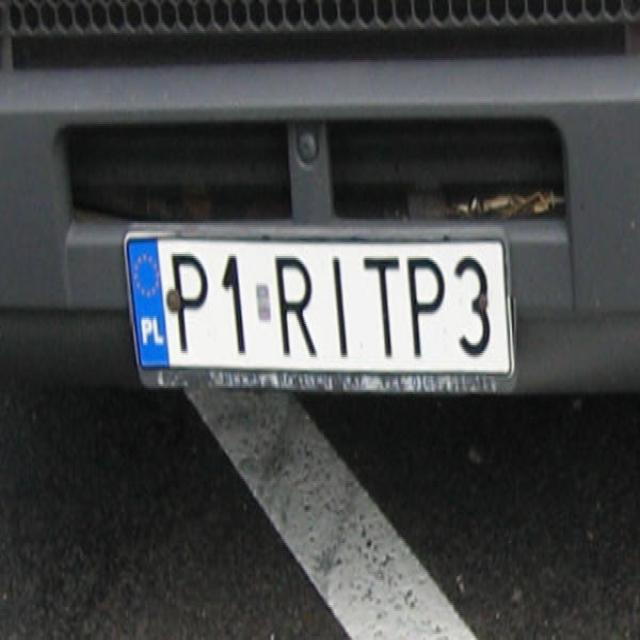pl_license_plate: (126, 236, 512, 372)
